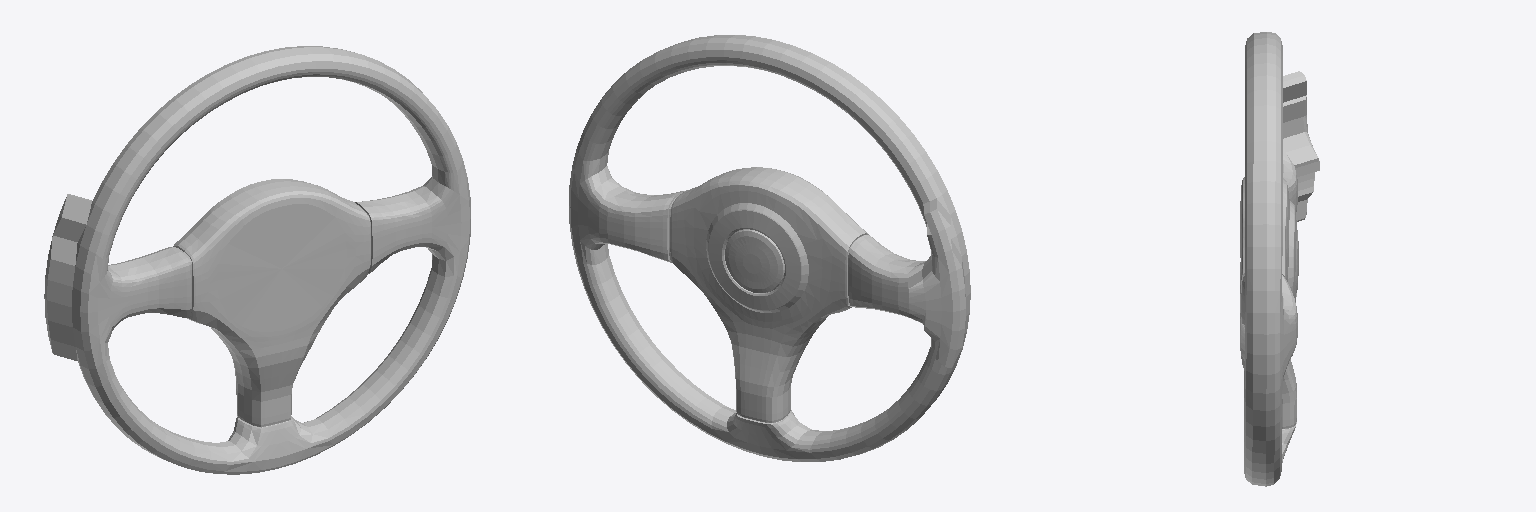
The model's file is steeringwheel.obj.
3 views of the same model, side by side, from view 1: azimuth 30°, elevation 25°; view 2: azimuth 150°, elevation 25°; view 3: azimuth 270°, elevation 25° (orthographic).
Parts seen in each view (by area): view 1: steeringhweel; view 2: steeringhweel; view 3: steeringhweel.
Part boxes in pixels (x1,y1,x2,y2): steeringhweel: (44, 46, 470, 474); steeringhweel: (569, 35, 970, 461); steeringhweel: (1240, 32, 1319, 486).
Size of the model in its own units: 29.82 by 28.9 by 5.11.